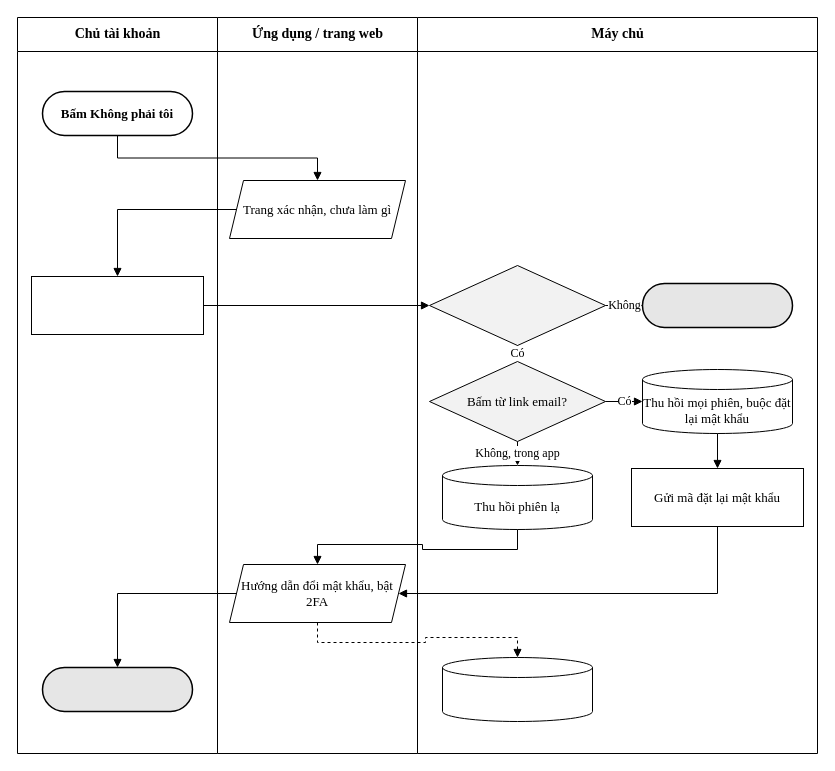
This 835x771 diagram has some shape labels left out. The centre of each missing label's shape, as x and y in pixels:
Báo không làm được: the point at 717,305
Bấm Xác nhận: the point at 117,305
Ghi sự kiện; nhiều ca cùng IP thì báo QTV: the point at 517,689
Yêu cầu hợp lệ?: the point at 517,305
Đặt mật khẩu mới, bật 2FA: the point at 117,689
